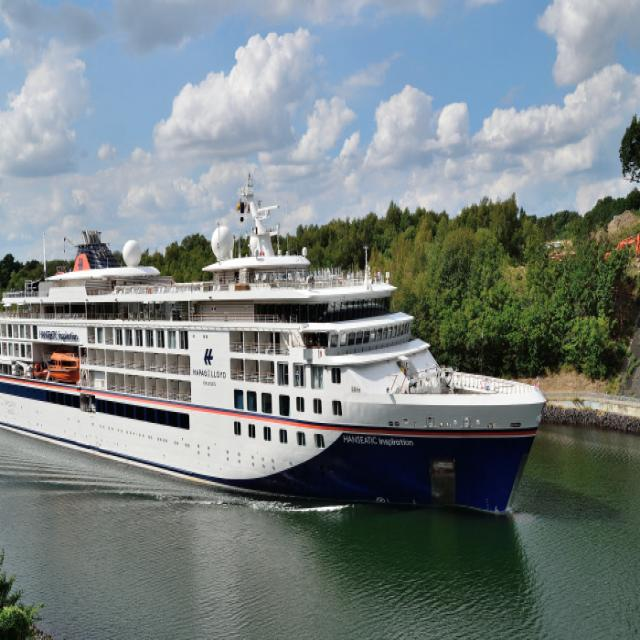cruises: (1, 178, 551, 524)
